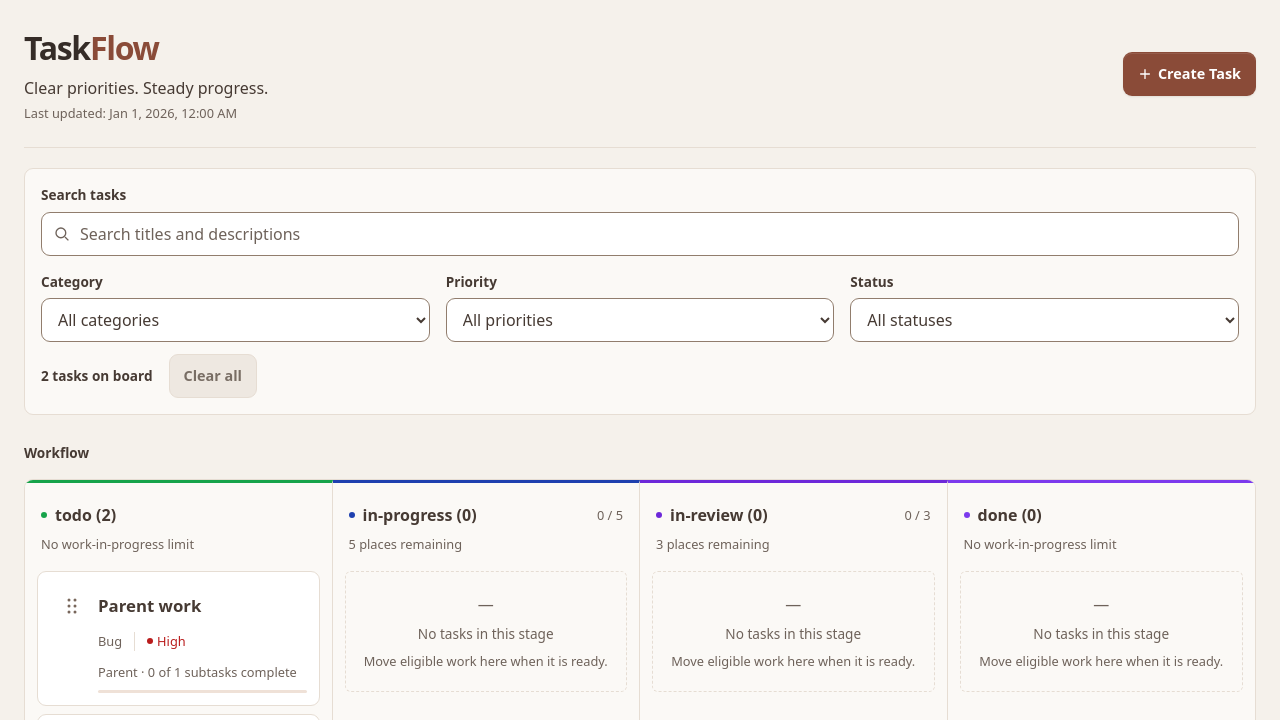
Test case: linked task board interactions › opens and edits a child from the parent list without losing context
This screenshot has width=1280, height=720.
Click the button with aria-label "Open task Parent work".
click(202, 606)  # box x1=98 y1=584 x2=306 y2=628
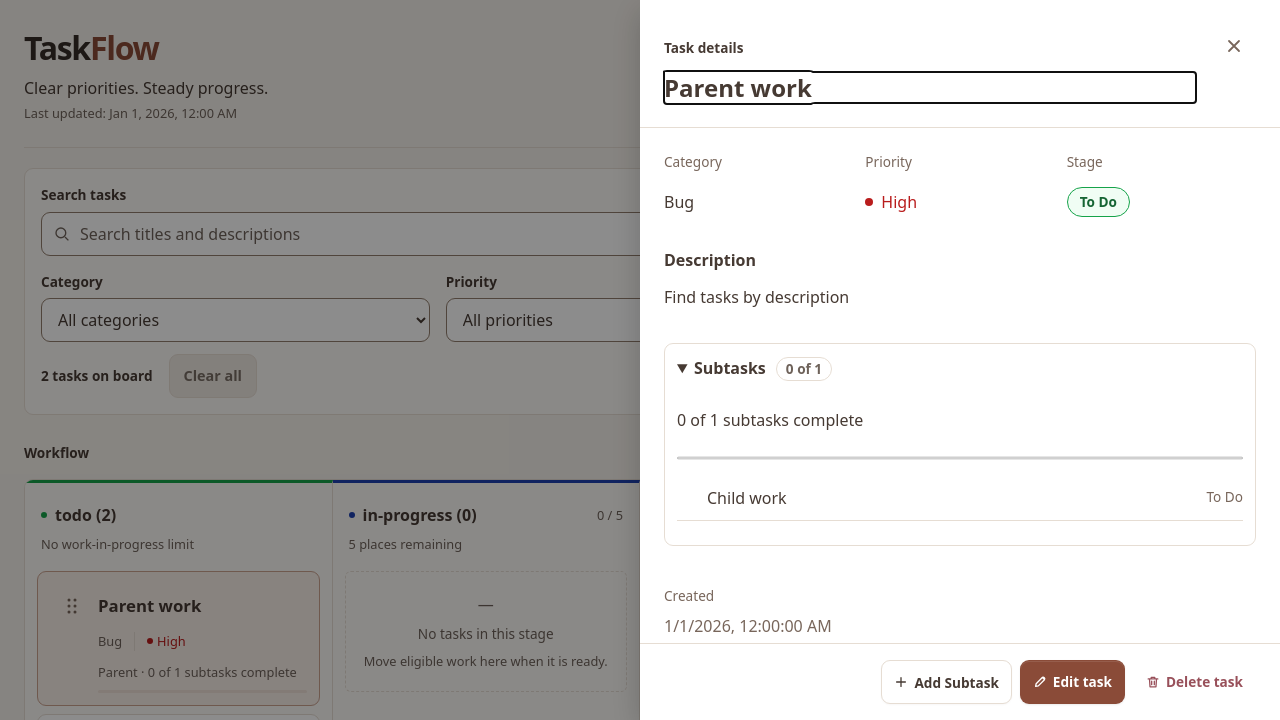
Click the button "Edit task".
click(1072, 682)  # box x1=1020 y1=660 x2=1125 y2=704
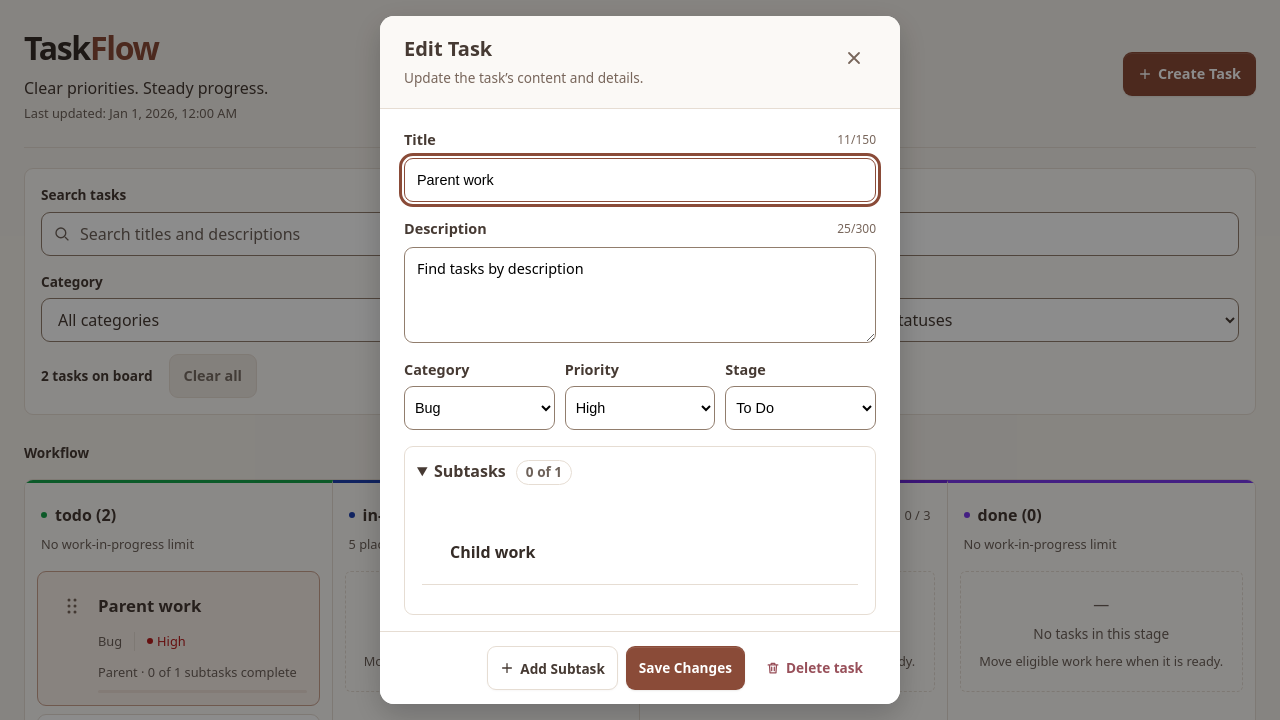
Click the button with aria-label "Open subtask Child work".
click(493, 552)  # box x1=450 y1=530 x2=858 y2=574
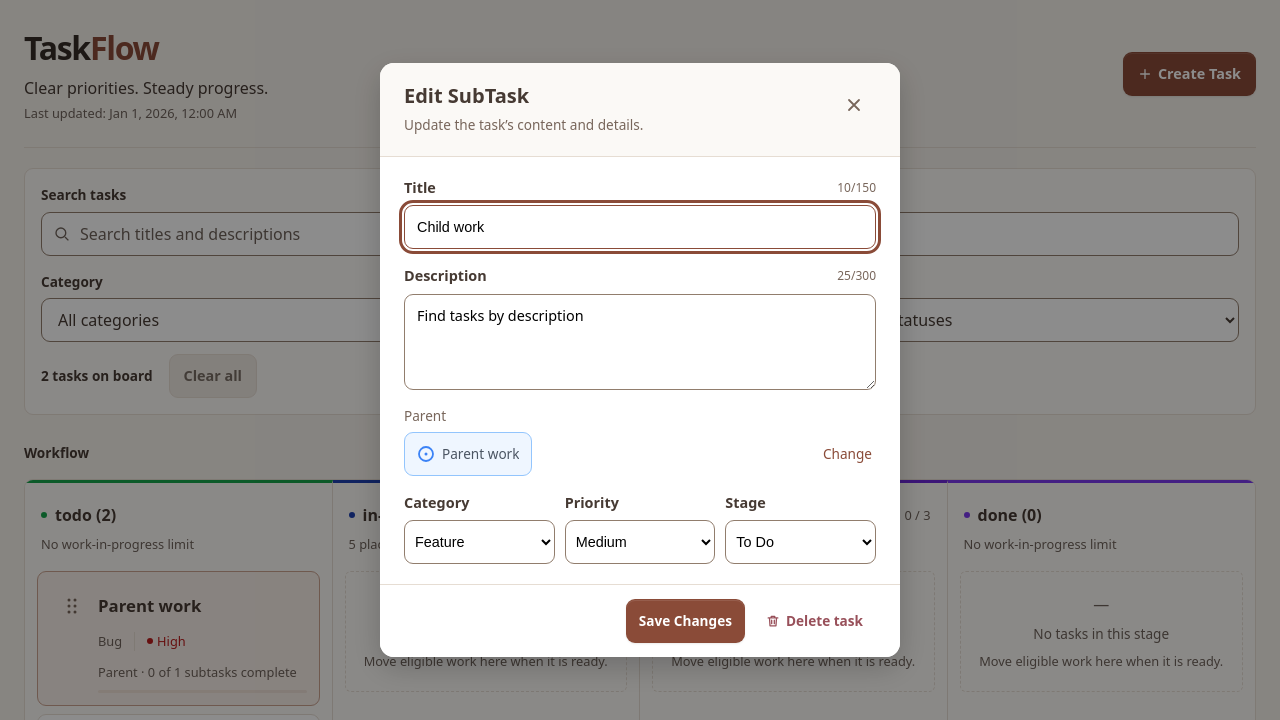
Now the button with aria-label "Open parent Parent work" is shown, box x1=404 y1=432 x2=532 y2=476
Replace the text in the field labelled "Title" with "Edited child" at (640, 227), box x1=404 y1=205 x2=876 y2=249
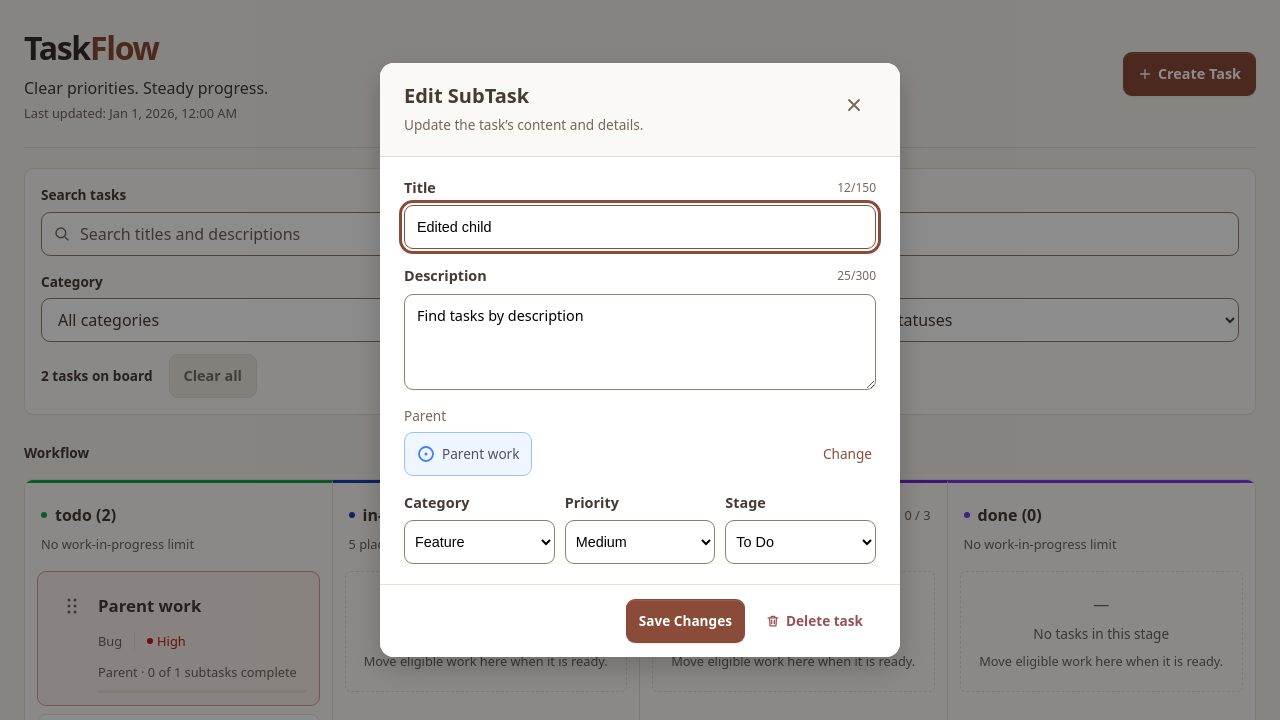
Click the button "Save Changes".
click(685, 621)  # box x1=626 y1=599 x2=745 y2=643
(page scrolled)
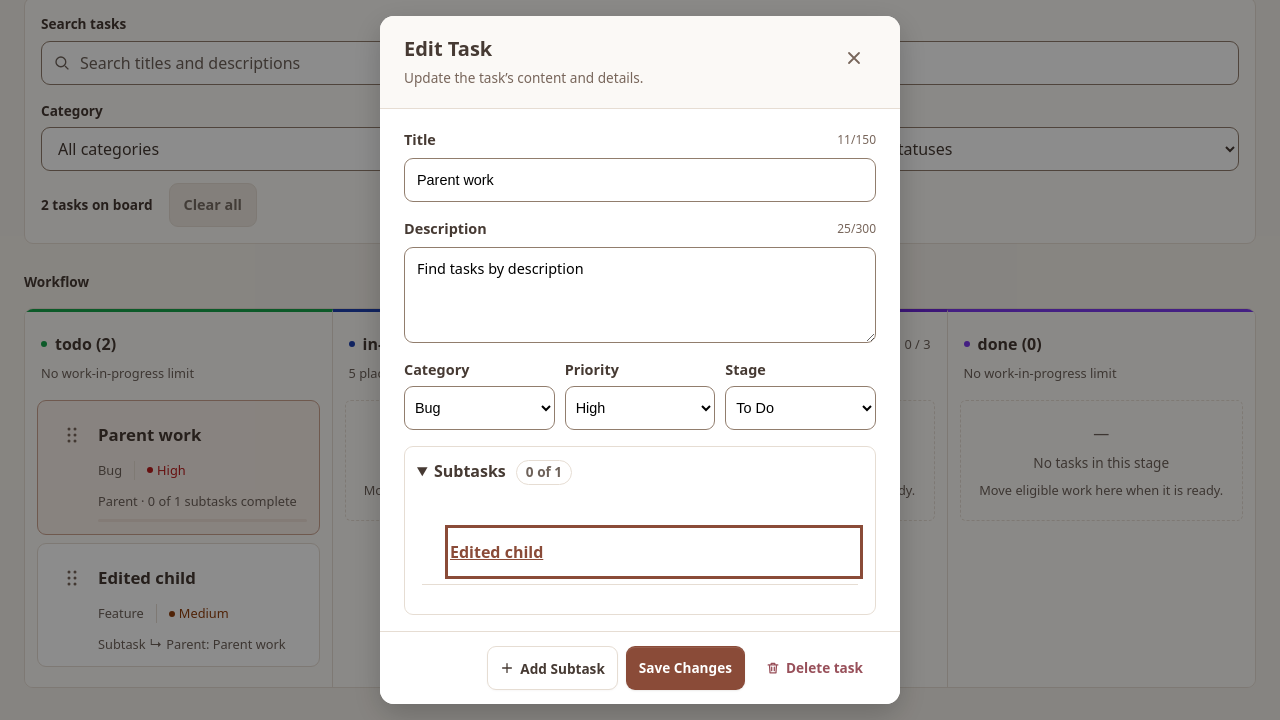
Now the button with aria-label "Open task Edited child" is shown, box x1=98 y1=556 x2=306 y2=600
